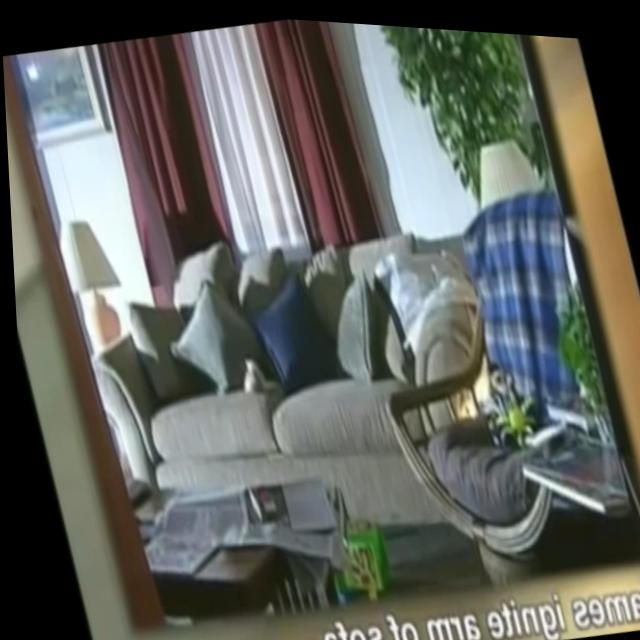fire: (438, 342, 501, 423)
